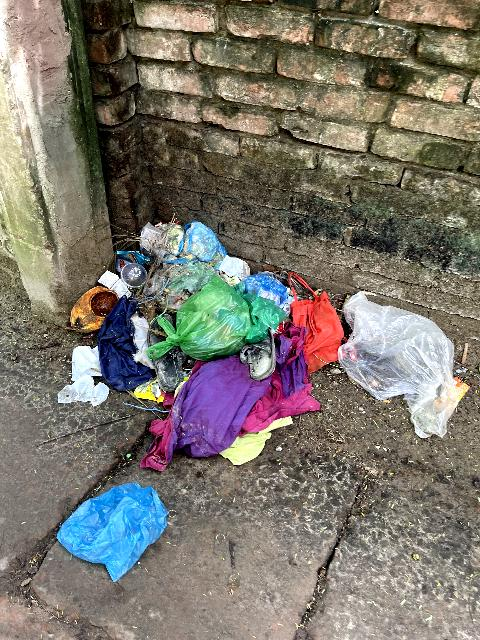polythene: (339, 293, 451, 418), (49, 481, 182, 578), (161, 277, 269, 347)
